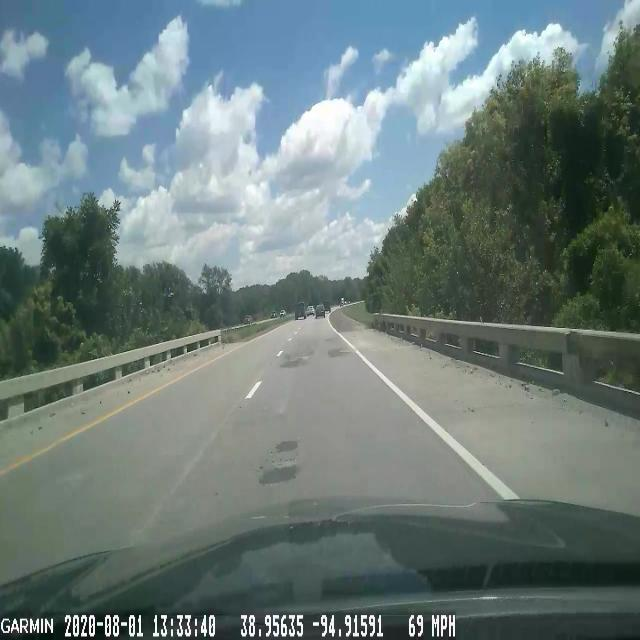Pothole: (252, 449, 308, 492), (266, 431, 303, 459)
